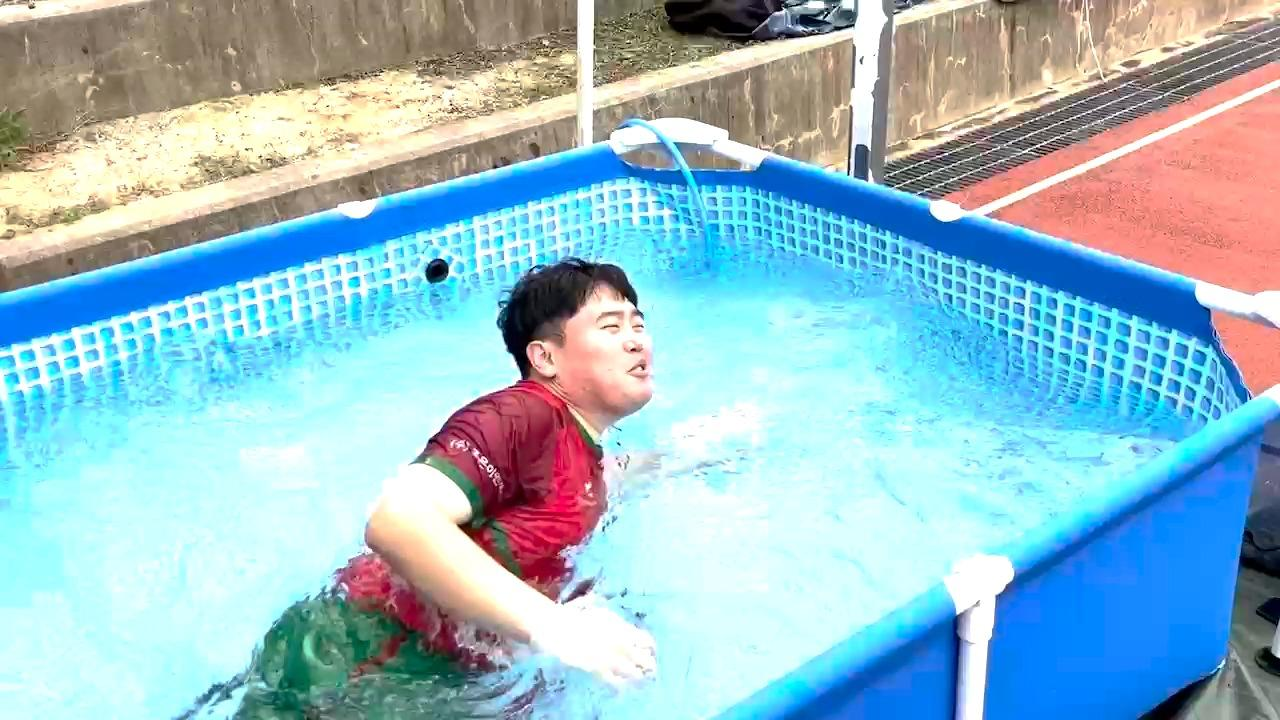Swimming: (85, 215, 725, 720)
